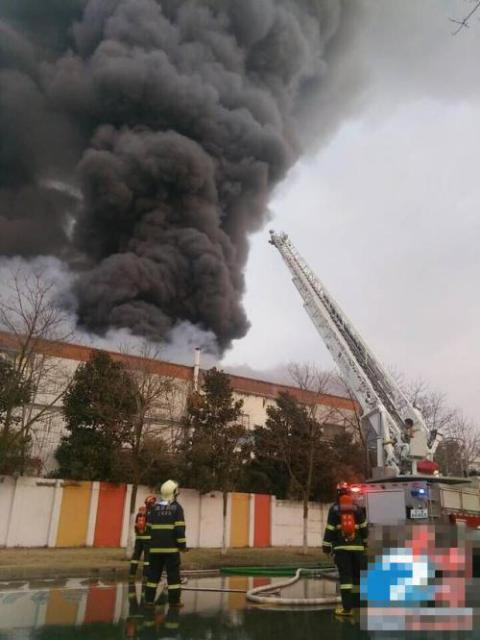smoke: (105, 3, 243, 363), (0, 0, 102, 260), (245, 0, 301, 222), (303, 0, 368, 136)
